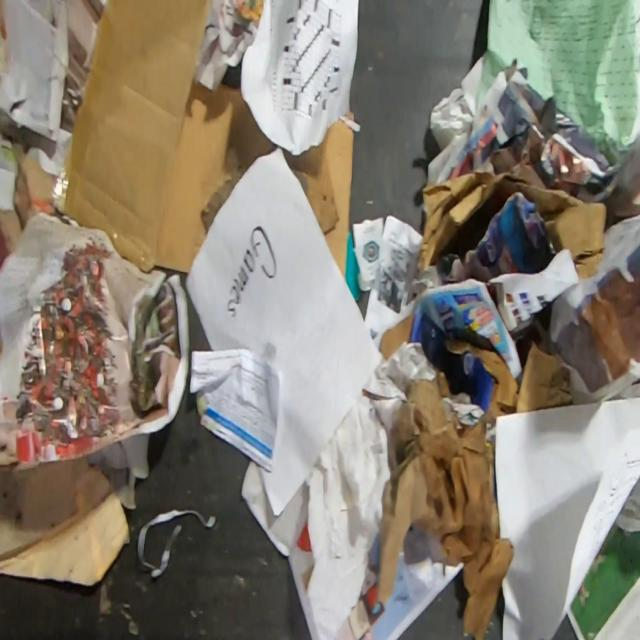cardboard: (60, 0, 277, 272), (376, 338, 521, 640), (415, 169, 606, 280), (291, 110, 354, 278), (0, 151, 68, 269), (516, 342, 574, 413), (380, 314, 414, 360)
